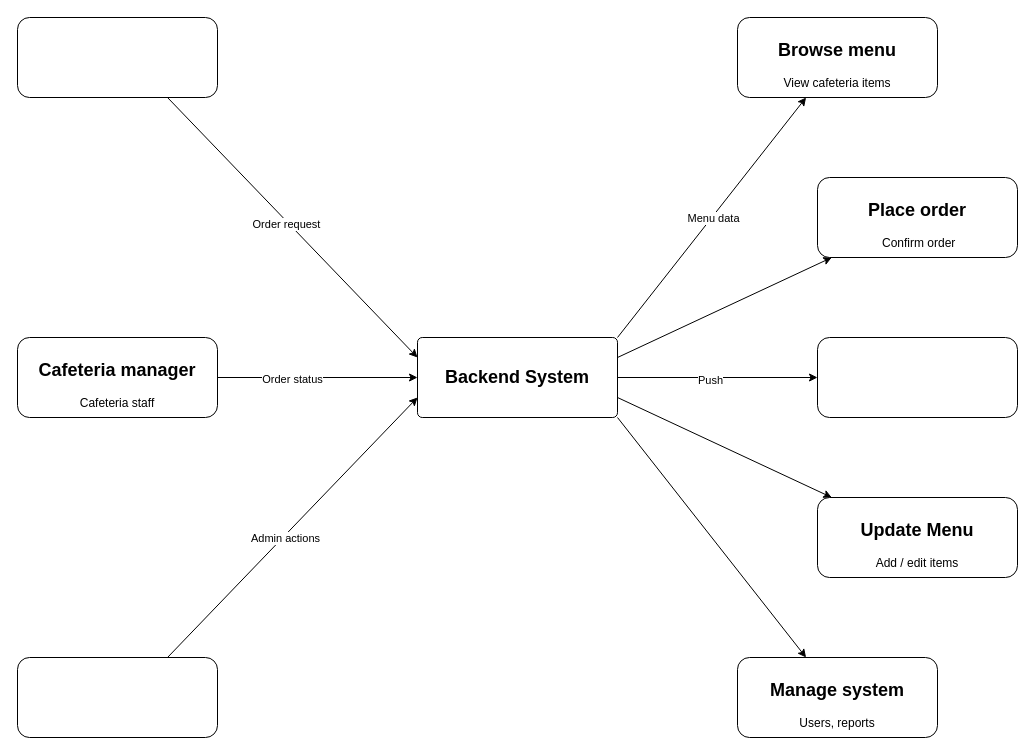
This 1035x755 diagram has some shape labels left out. The box of each missing label's shape, as (x1, y1, x2, y2) in pixels:
Admin System administrator: (16, 656, 218, 738)
Receive notifications Order ready alert: (816, 336, 1018, 418)
Student / Staff Users: (16, 16, 218, 98)
